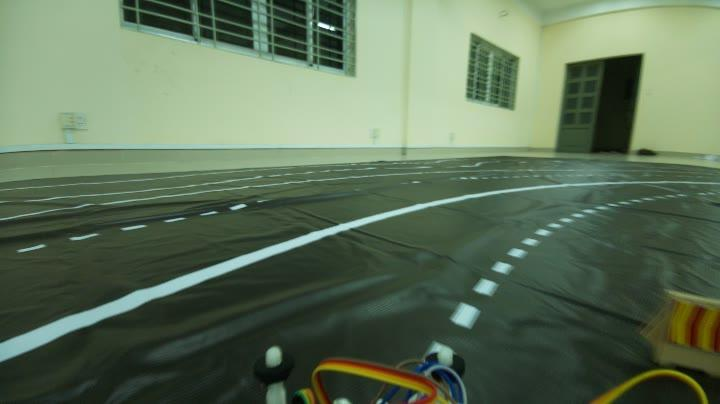roadblock: (638, 290, 720, 374)
